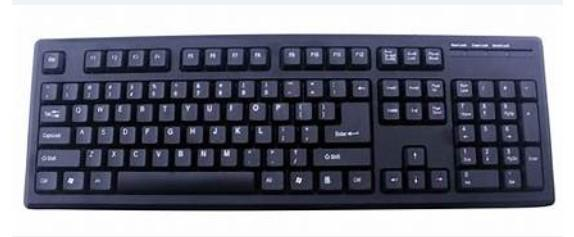Keyboard: (23, 34, 557, 211)
